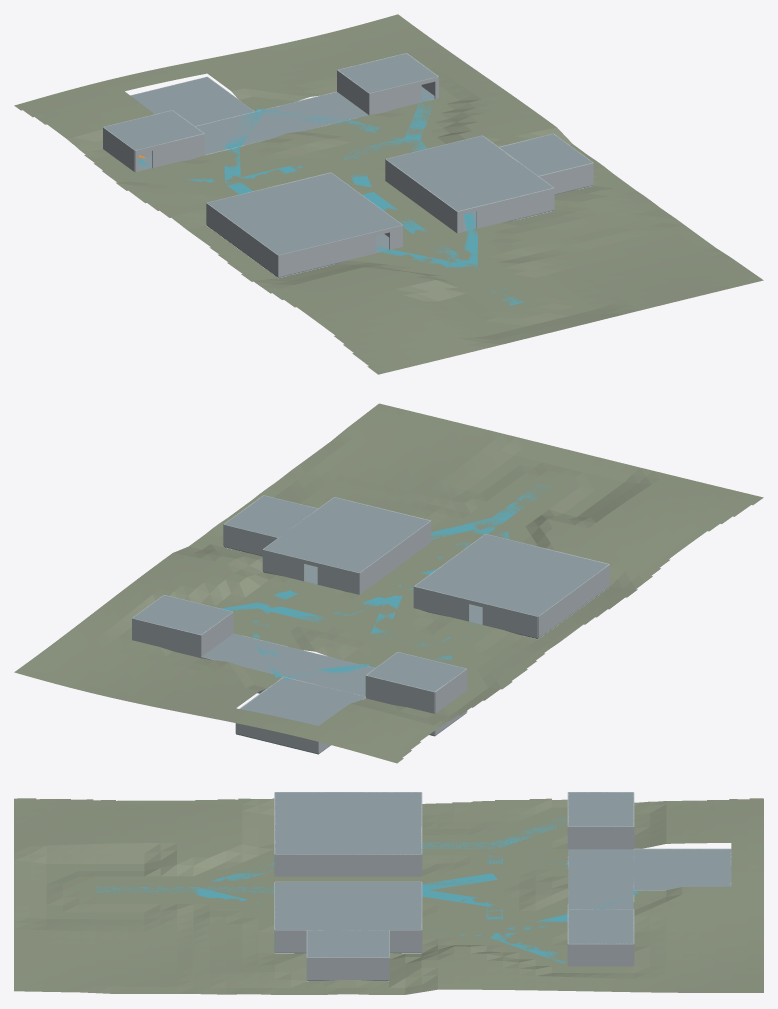
Rendered from rough-shell.glb.
The picture shows the model from 3 angles, top to bottom: view 1: azimuth 30°, elevation 25°; view 2: azimuth 150°, elevation 25°; view 3: azimuth 270°, elevation 25°; orthographic projection. The views are drawn at different scales.
Visible parts, largest first — view 1: Saved editor terrain WLD-07, Ceiling cap chapel, Ceiling cap cottage, Ceiling cap chamber, Wall chapel S, Ceiling cap west-stair, Ceiling cap east-stair, Ceiling cap tool, Ceiling cap ossuary.002, Wall cottage S.001, Ceiling cap ossuary, Wall cottage W (+7 smaller); view 2: Saved editor terrain WLD-07, Ceiling cap chapel, Ceiling cap cottage, Ceiling cap chamber, Ceiling cap east-stair, Ceiling cap tool, Ceiling cap west-stair, Ceiling cap ossuary, Ceiling cap ossuary.002, Wall cottage W, Wall chapel W, Wall east-stair N (+10 smaller); view 3: Saved editor terrain WLD-07, Ceiling cap chapel, Ceiling cap cottage, Ceiling cap chamber, Wall chapel E, Ceiling cap east-stair, Ceiling cap west-stair, Ceiling cap tool, Wall tool E, Ceiling cap ossuary, Ceiling cap ossuary.002, Wall west-stair E (+9 smaller).
Part boxes in pixels (bbox=[...]): Saved editor terrain WLD-07: bbox=[14, 14, 763, 374]; Ceiling cap chapel: bbox=[207, 173, 401, 255]; Ceiling cap cottage: bbox=[386, 135, 553, 211]; Ceiling cap chamber: bbox=[131, 77, 253, 125]; Wall chapel S: bbox=[278, 231, 376, 276]; Ceiling cap west-stair: bbox=[104, 110, 203, 149]; Ceiling cap east-stair: bbox=[338, 53, 437, 92]; Ceiling cap tool: bbox=[499, 134, 592, 175]; Ceiling cap ossuary.002: bbox=[204, 106, 368, 154]; Wall cottage S.001: bbox=[476, 188, 554, 228]; Ceiling cap ossuary: bbox=[195, 92, 348, 135]; Wall cottage W: bbox=[385, 159, 457, 233]; Saved editor terrain WLD-07: bbox=[14, 403, 763, 763]; Ceiling cap chapel: bbox=[415, 534, 608, 616]; Ceiling cap cottage: bbox=[263, 497, 429, 572]; Ceiling cap chamber: bbox=[240, 677, 365, 725]; Ceiling cap east-stair: bbox=[133, 595, 232, 634]; Ceiling cap tool: bbox=[224, 495, 317, 537]; Ceiling cap west-stair: bbox=[367, 652, 465, 691]; Ceiling cap ossuary: bbox=[202, 648, 365, 696]; Ceiling cap ossuary.002: bbox=[221, 634, 374, 677]; Wall cottage W: bbox=[359, 521, 431, 594]; Wall chapel W: bbox=[538, 564, 609, 638]; Wall east-stair N: bbox=[132, 618, 201, 656]; Saved editor terrain WLD-07: bbox=[14, 798, 763, 994]; Ceiling cap chapel: bbox=[275, 792, 421, 854]; Ceiling cap cottage: bbox=[275, 882, 421, 929]; Ceiling cap chamber: bbox=[633, 849, 731, 890]; Wall chapel E: bbox=[275, 854, 421, 876]; Ceiling cap east-stair: bbox=[568, 909, 633, 943]; Ceiling cap west-stair: bbox=[568, 792, 633, 826]; Ceiling cap tool: bbox=[307, 930, 388, 957]; Wall tool E: bbox=[307, 957, 388, 979]; Ceiling cap ossuary: bbox=[608, 849, 633, 909]; Ceiling cap ossuary.002: bbox=[568, 849, 593, 909]; Wall west-stair E: bbox=[568, 826, 633, 849].
Bounding box in the file's own units: 56 × 6.16 × 92.
